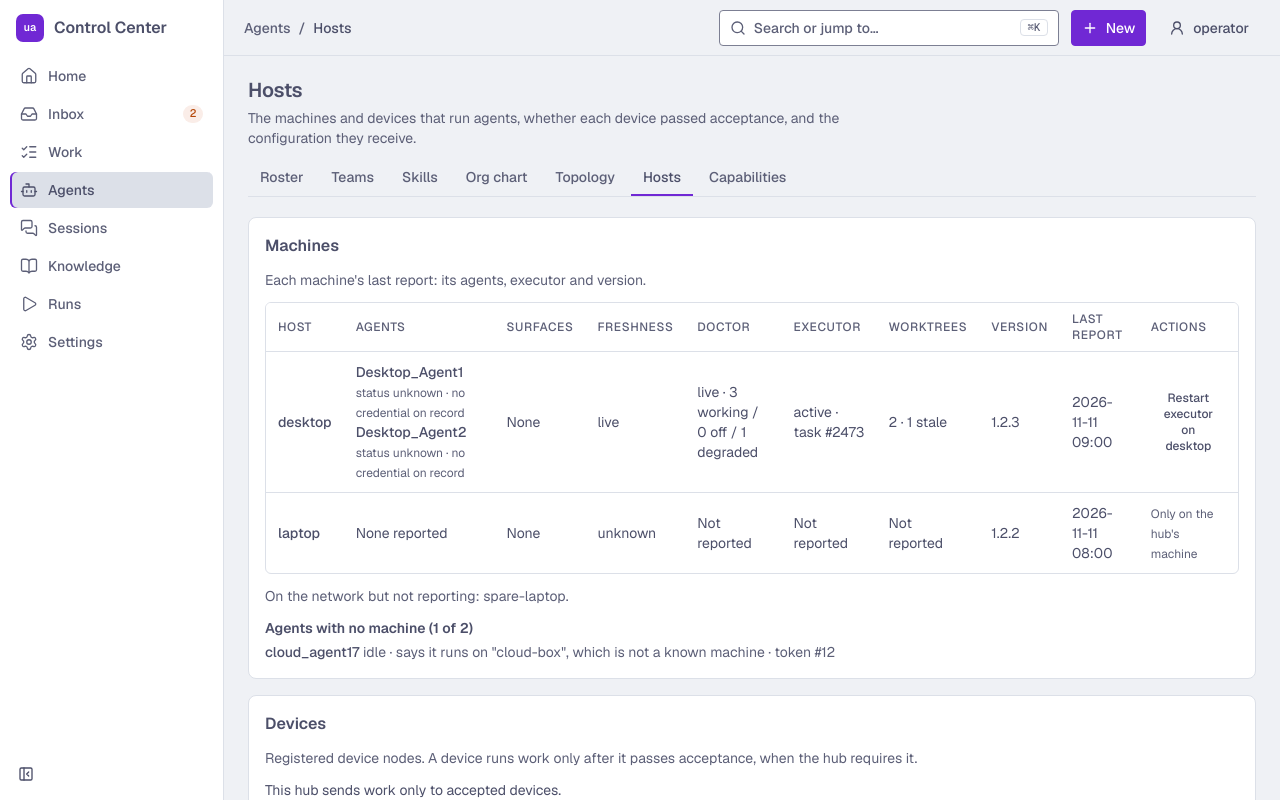
hosts: machines › restarts the executor only on the hub's machine, after a confirm
Expected: the table named "Machines" shows "Only on the hub's machine", left=1151, top=506, right=1214, bottom=562
Click the button "Restart executor on desktop" at coordinates (1188, 422), box left=1151, top=385, right=1226, bottom=459
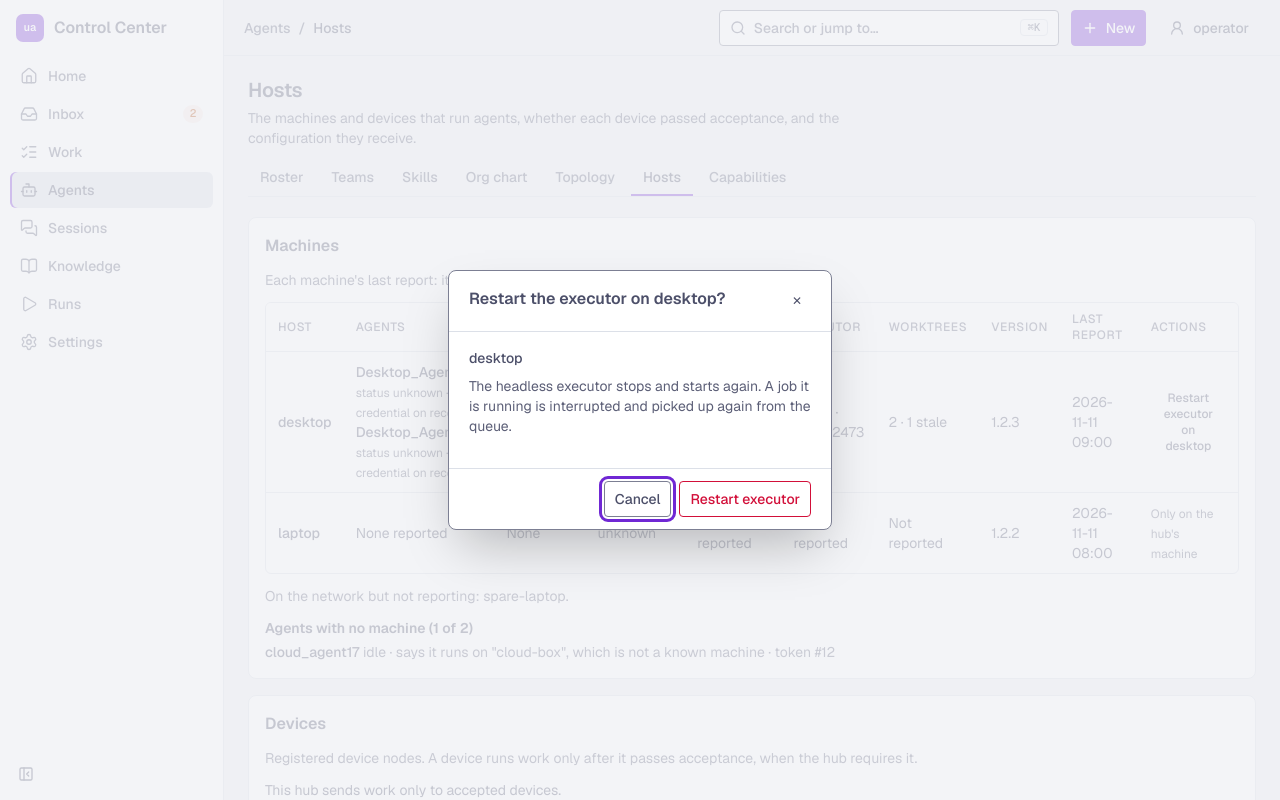
Click the button "Restart executor" at coordinates (745, 499), box left=679, top=481, right=811, bottom=517
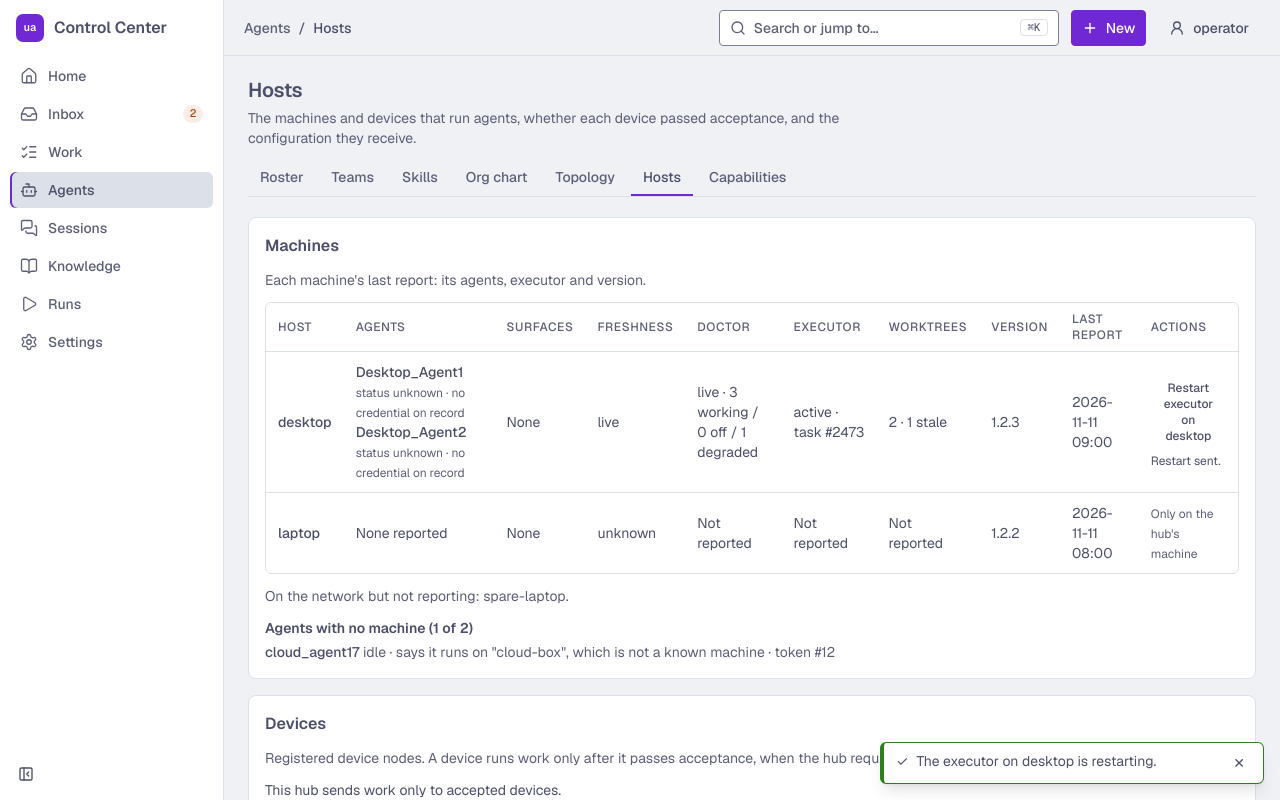
Now the text "Restart sent." is shown, box left=1151, top=453, right=1221, bottom=469
